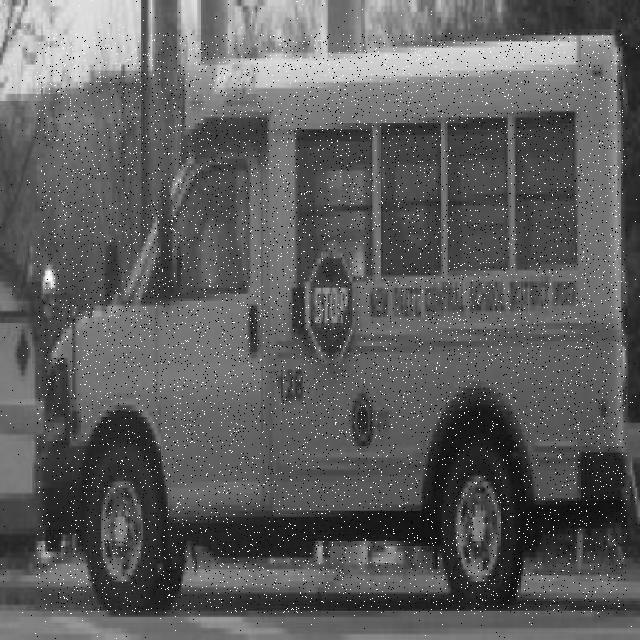Bus- Small: (37, 33, 627, 614)
